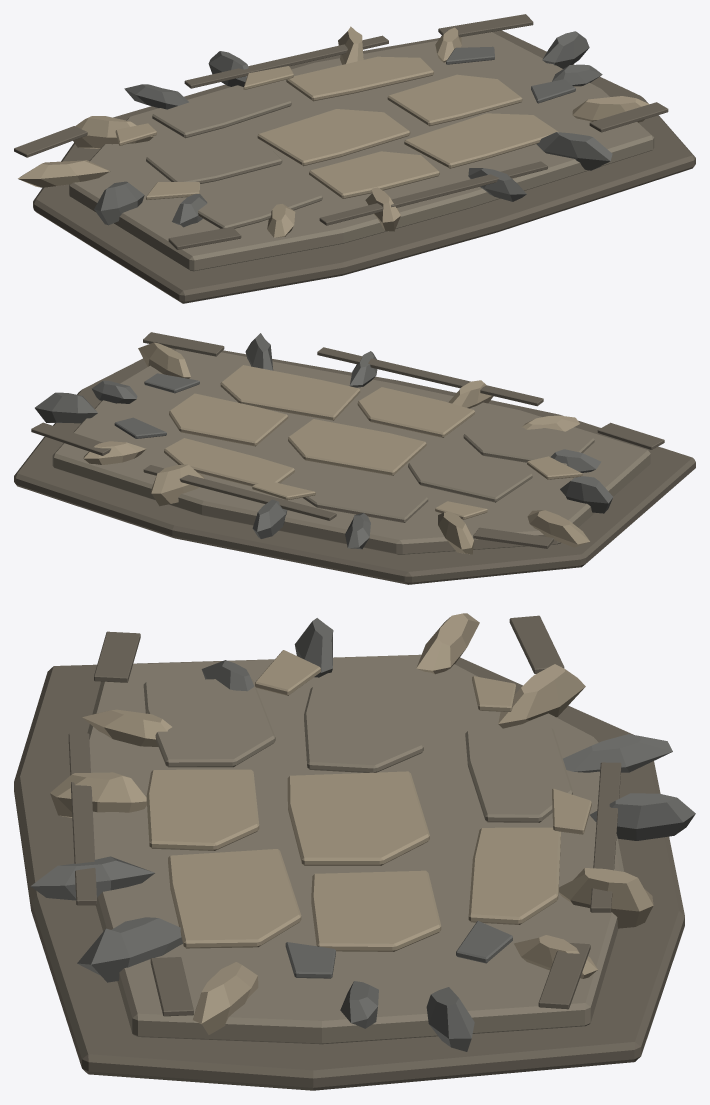
The model's file is embedded-pad-set.glb.
3 views of the same model, one above another, from view 1: azimuth 30°, elevation 25°; view 2: azimuth 150°, elevation 25°; view 3: azimuth 270°, elevation 25° (orthographic). The views are drawn at different scales.
Visible parts, largest first — view 1: embedded_pad_worn_top, embedded_pad_shadow, settled_flagstone_4, settled_flagstone_2, settled_flagstone_5, settled_flagstone_3, settled_flagstone_0, settled_flagstone_6, settled_flagstone_7, settled_flagstone_1, dark_sand_joint_4, dark_sand_joint_5 (+24 smaller); view 2: embedded_pad_worn_top, embedded_pad_shadow, settled_flagstone_4, settled_flagstone_2, settled_flagstone_3, settled_flagstone_5, settled_flagstone_1, settled_flagstone_0, settled_flagstone_6, settled_flagstone_7, dark_sand_joint_4, dark_sand_joint_5 (+24 smaller); view 3: embedded_pad_worn_top, embedded_pad_shadow, settled_flagstone_4, settled_flagstone_2, settled_flagstone_3, settled_flagstone_5, settled_flagstone_0, settled_flagstone_1, settled_flagstone_6, settled_flagstone_7, pad_edge_chip_14, dark_sand_joint_4 (+24 smaller).
Part boxes in pixels (x1,y1,x2,y2): embedded_pad_worn_top: (69, 32, 654, 271); embedded_pad_shadow: (33, 30, 695, 303); settled_flagstone_4: (257, 109, 410, 166); settled_flagstone_2: (404, 113, 558, 168); settled_flagstone_5: (387, 74, 522, 126); settled_flagstone_3: (146, 137, 282, 183); settled_flagstone_0: (198, 178, 322, 228); settled_flagstone_6: (152, 88, 291, 138); settled_flagstone_7: (286, 56, 433, 101); settled_flagstone_1: (309, 151, 439, 198); dark_sand_joint_4: (319, 161, 547, 225); dark_sand_joint_5: (184, 35, 388, 88); embedded_pad_worn_top: (52, 349, 650, 554); embedded_pad_shadow: (14, 348, 695, 584); settled_flagstone_4: (288, 419, 426, 475); settled_flagstone_2: (220, 365, 360, 420); settled_flagstone_3: (408, 449, 532, 502); settled_flagstone_5: (169, 393, 288, 446); settled_flagstone_1: (357, 387, 474, 437); settled_flagstone_0: (463, 418, 594, 465); settled_flagstone_6: (296, 475, 428, 522); settled_flagstone_7: (164, 438, 294, 486); dark_sand_joint_4: (317, 347, 543, 406); dark_sand_joint_5: (143, 465, 336, 520); embedded_pad_worn_top: (87, 654, 624, 1044); embedded_pad_shadow: (14, 656, 684, 1090); settled_flagstone_4: (287, 771, 429, 865); settled_flagstone_2: (168, 849, 301, 948); settled_flagstone_3: (304, 686, 423, 772); settled_flagstone_5: (311, 870, 441, 951); settled_flagstone_0: (143, 678, 275, 767); settled_flagstone_1: (146, 769, 259, 850); settled_flagstone_6: (465, 727, 572, 822); settled_flagstone_7: (468, 827, 560, 924); pad_edge_chip_14: (77, 917, 182, 982); dark_sand_joint_4: (68, 733, 96, 905).
Bounding box in the file's own units: 5.9 × 0.4972 × 3.96.
